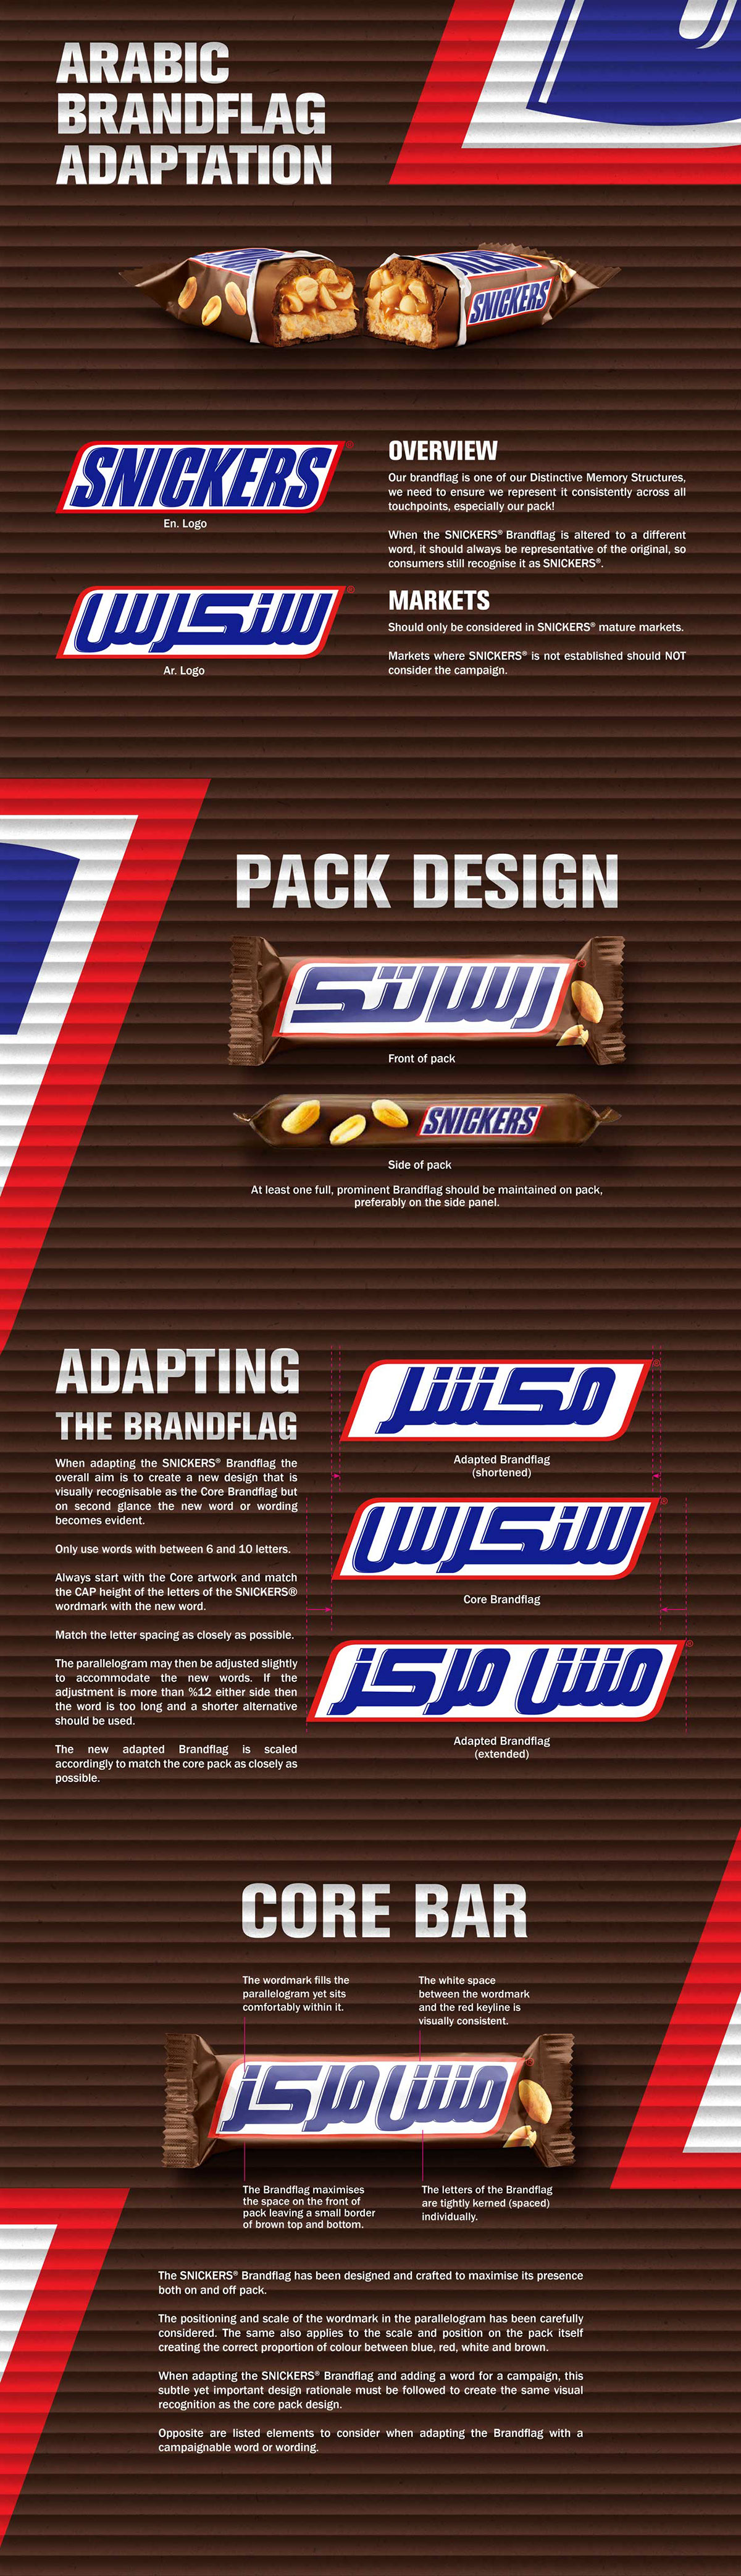snickers: (71, 439, 337, 519), (71, 452, 337, 519), (422, 1107, 547, 1140), (426, 1097, 549, 1130)
